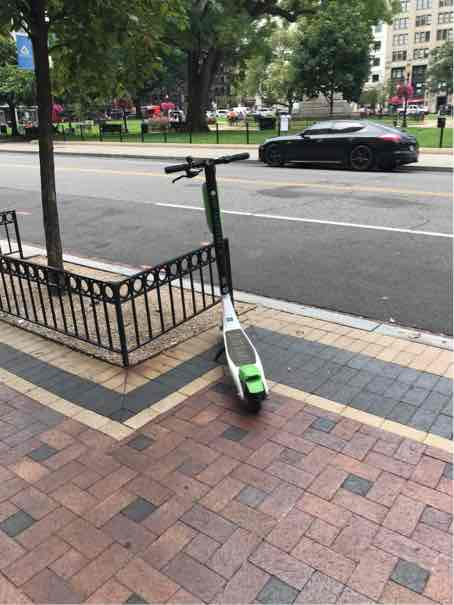scooter: (154, 165, 273, 422)
